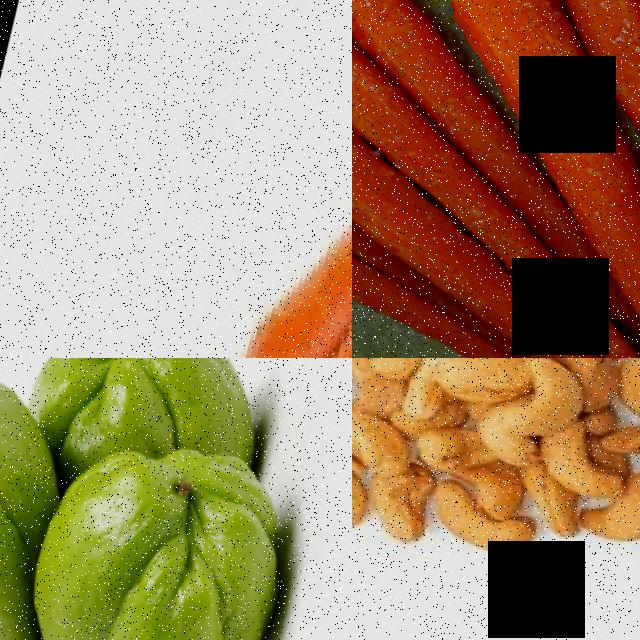carrot: (214, 120, 352, 358), (532, 0, 640, 80), (254, 275, 352, 358), (410, 0, 578, 46)
cashew: (407, 490, 555, 568), (527, 421, 625, 518), (514, 365, 589, 441), (431, 358, 527, 412), (352, 405, 419, 474), (594, 358, 640, 434), (594, 416, 640, 490), (600, 482, 640, 561)
chayote: (15, 468, 298, 640)
